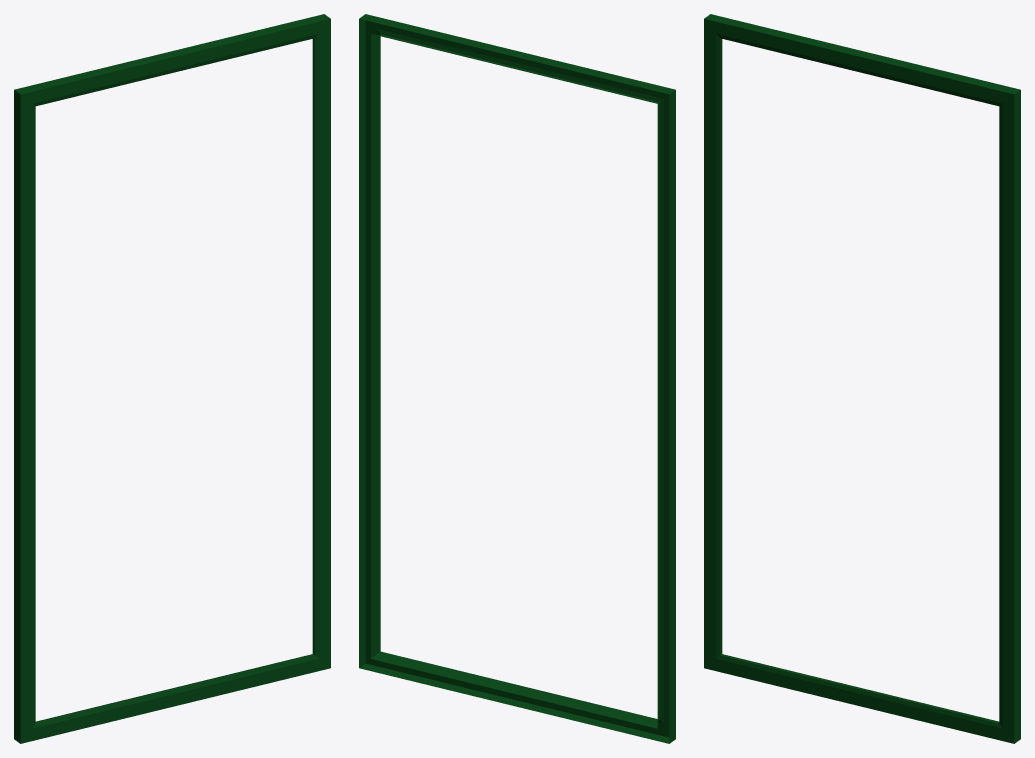
The model's file is rails.obj.
3 views of the same model, side by side, from view 1: azimuth 30°, elevation 25°; view 2: azimuth 150°, elevation 25°; view 3: azimuth 330°, elevation 25° (orthographic).
Visible parts, largest first — view 1: Mesh_Plane; view 2: Mesh_Plane; view 3: Mesh_Plane.
Part boxes in pixels (x1,y1,x2,y2): Mesh_Plane: (14,14,330,743); Mesh_Plane: (359,14,675,743); Mesh_Plane: (704,14,1020,743).
Size of the model in its own units: 1.5 by 3 by 0.0545.
